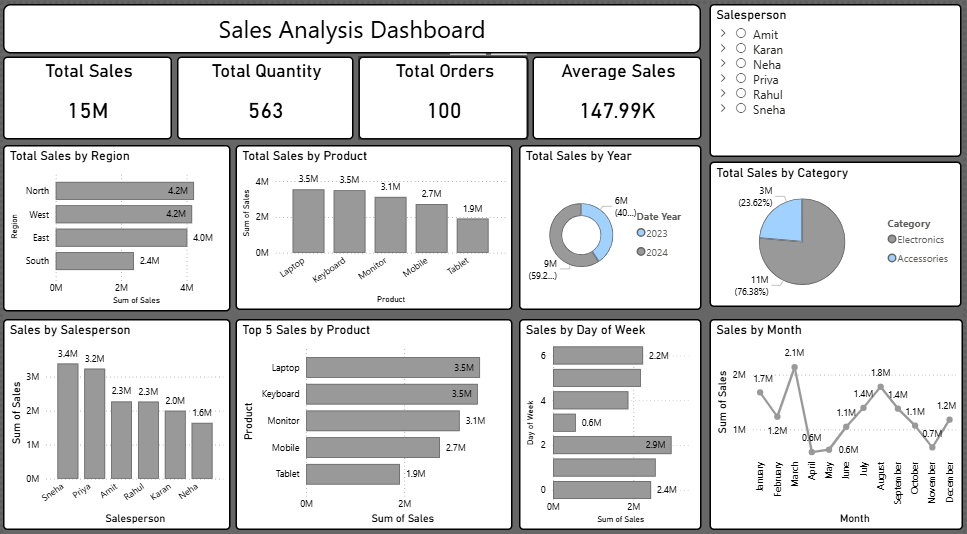

The dashboard page shown, as its layout file describes it:
{"tool":"powerbi","page":{"name":"Page 2","canvas":[1280,720],"ordinal":0},"visuals":[{"type":"barChart","title":"Total Sales by Region","fields":{"Category":["power_bi_dashboard_dataset.Region"],"Y":["Sum(power_bi_dashboard_dataset.Sales)"]},"box":[0,188.8,303.1,222],"z":0},{"type":"columnChart","title":"Total Sales by Product","fields":{"Y":["Sum(power_bi_dashboard_dataset.Sales)"],"Category":["power_bi_dashboard_dataset.Product"]},"box":[309.8,188.8,369.4,220.3],"z":1000},{"type":"pieChart","title":"Total Sales by Category","fields":{"Y":["Sum(power_bi_dashboard_dataset.Sales)"],"Category":["power_bi_dashboard_dataset.Category"]},"box":[942.5,210.4,336.3,193.8],"z":2000},{"type":"lineChart","title":"Sales by Month","fields":{"Y":["Sum(power_bi_dashboard_dataset.Sales)"],"Category":["power_bi_dashboard_dataset.Date.Variation.Date Hierarchy.Month"]},"box":[942.5,419.1,337.9,281.6],"z":3000},{"type":"listSlicer","fields":{"Values":["power_bi_dashboard_dataset.Salesperson","power_bi_dashboard_dataset.Region","power_bi_dashboard_dataset.Date.Variation.Date Hierarchy.Year","power_bi_dashboard_dataset.Category"]},"box":[942.5,0,336.3,203.7],"z":4000},{"type":"barChart","title":"Top 5 Sales by Product","fields":{"Y":["Sum(power_bi_dashboard_dataset.Sales)"],"Category":["power_bi_dashboard_dataset.Product"]},"box":[309.8,419.1,369.4,281.6],"z":5000},{"type":"columnChart","title":"Sales by Salesperson","fields":{"Category":["power_bi_dashboard_dataset.Salesperson"],"Y":["Sum(power_bi_dashboard_dataset.Sales)"]},"box":[0,419.1,303.1,281.6],"z":6000},{"type":"card","title":"Total Sales","fields":{"Values":["Sum(power_bi_dashboard_dataset.Sales)"]},"box":[0,69.6,225.3,111],"z":7000},{"type":"card","title":"Total Quantity","fields":{"Values":["Sum(power_bi_dashboard_dataset.Quantity)"]},"box":[231.9,69.6,235.2,111],"z":8000},{"type":"card","title":"Total Orders","fields":{"Values":["CountNonNull(power_bi_dashboard_dataset.OrderID)"]},"box":[473.8,69.6,226.9,111],"z":9000},{"type":"card","title":"Average Sales","fields":{"Values":["Avg(power_bi_dashboard_dataset.Sales)"]},"box":[705.7,69.6,225.3,111],"z":10000},{"type":"barChart","title":"Sales by Day of Week","fields":{"Category":["power_bi_dashboard_dataset.Day of Week"],"Y":["Sum(power_bi_dashboard_dataset.Sales)"]},"box":[687.4,419.1,243.5,281.6],"z":11000},{"type":"donutChart","title":"Total Sales by Year","fields":{"Category":["power_bi_dashboard_dataset.Date.Variation.Date Hierarchy.Year"],"Y":["Sum(power_bi_dashboard_dataset.Sales)"]},"box":[687.4,188.8,243.5,220.3],"z":12000},{"type":"textbox","box":[0,0,930.9,66.3],"z":13000}]}

Visuals, with their boxes in screenshot pixels (x1, y1, x2, y2), scaled from the page's 1280x720 canvas onto the 967x534 screenshot:
"Total Sales by Region" barChart: (0, 140, 229, 305)
"Total Sales by Product" columnChart: (234, 140, 513, 303)
"Total Sales by Category" pieChart: (712, 156, 966, 300)
"Sales by Month" lineChart: (712, 311, 966, 520)
listSlicer - power_bi_dashboard_dataset.Salesperson x power_bi_dashboard_dataset.Region: (712, 0, 966, 151)
"Top 5 Sales by Product" barChart: (234, 311, 513, 520)
"Sales by Salesperson" columnChart: (0, 311, 229, 520)
"Total Sales" card: (0, 52, 170, 134)
"Total Quantity" card: (175, 52, 353, 134)
"Total Orders" card: (358, 52, 529, 134)
"Average Sales" card: (533, 52, 703, 134)
"Sales by Day of Week" barChart: (519, 311, 703, 520)
"Total Sales by Year" donutChart: (519, 140, 703, 303)
textbox: (0, 0, 703, 49)
